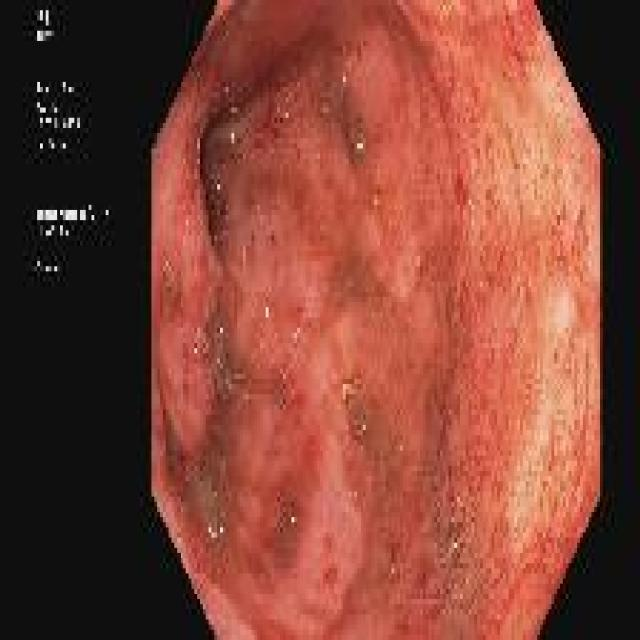ulcerative-colitis: (152, 0, 600, 638)
